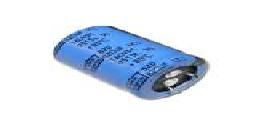Electrolytic-Capacitor: (52, 24, 214, 105)
